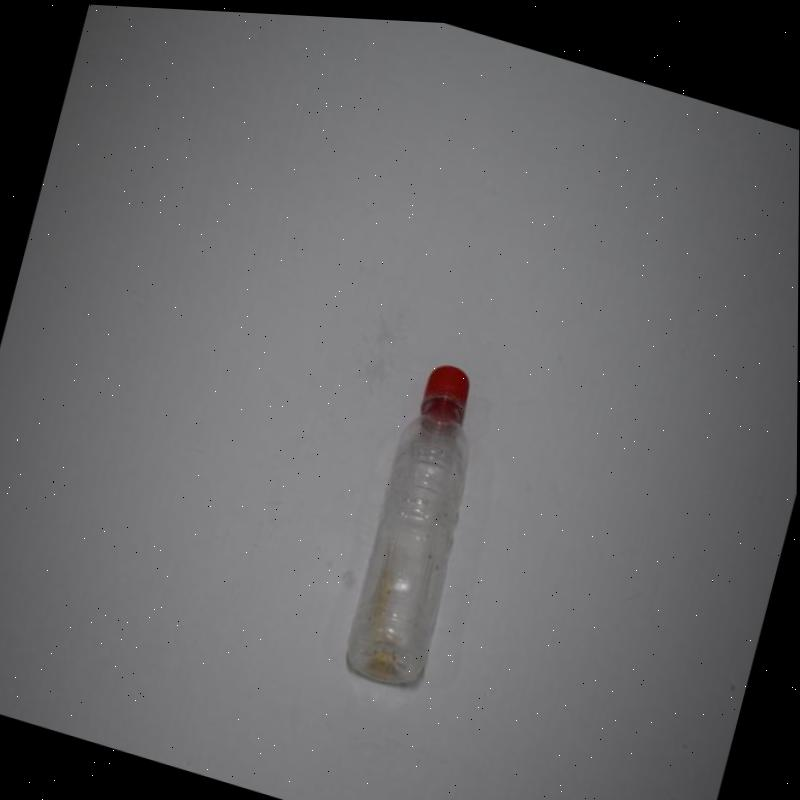botella: (341, 349, 500, 689)
